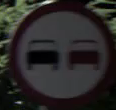No overtake: (7, 11, 104, 100)
